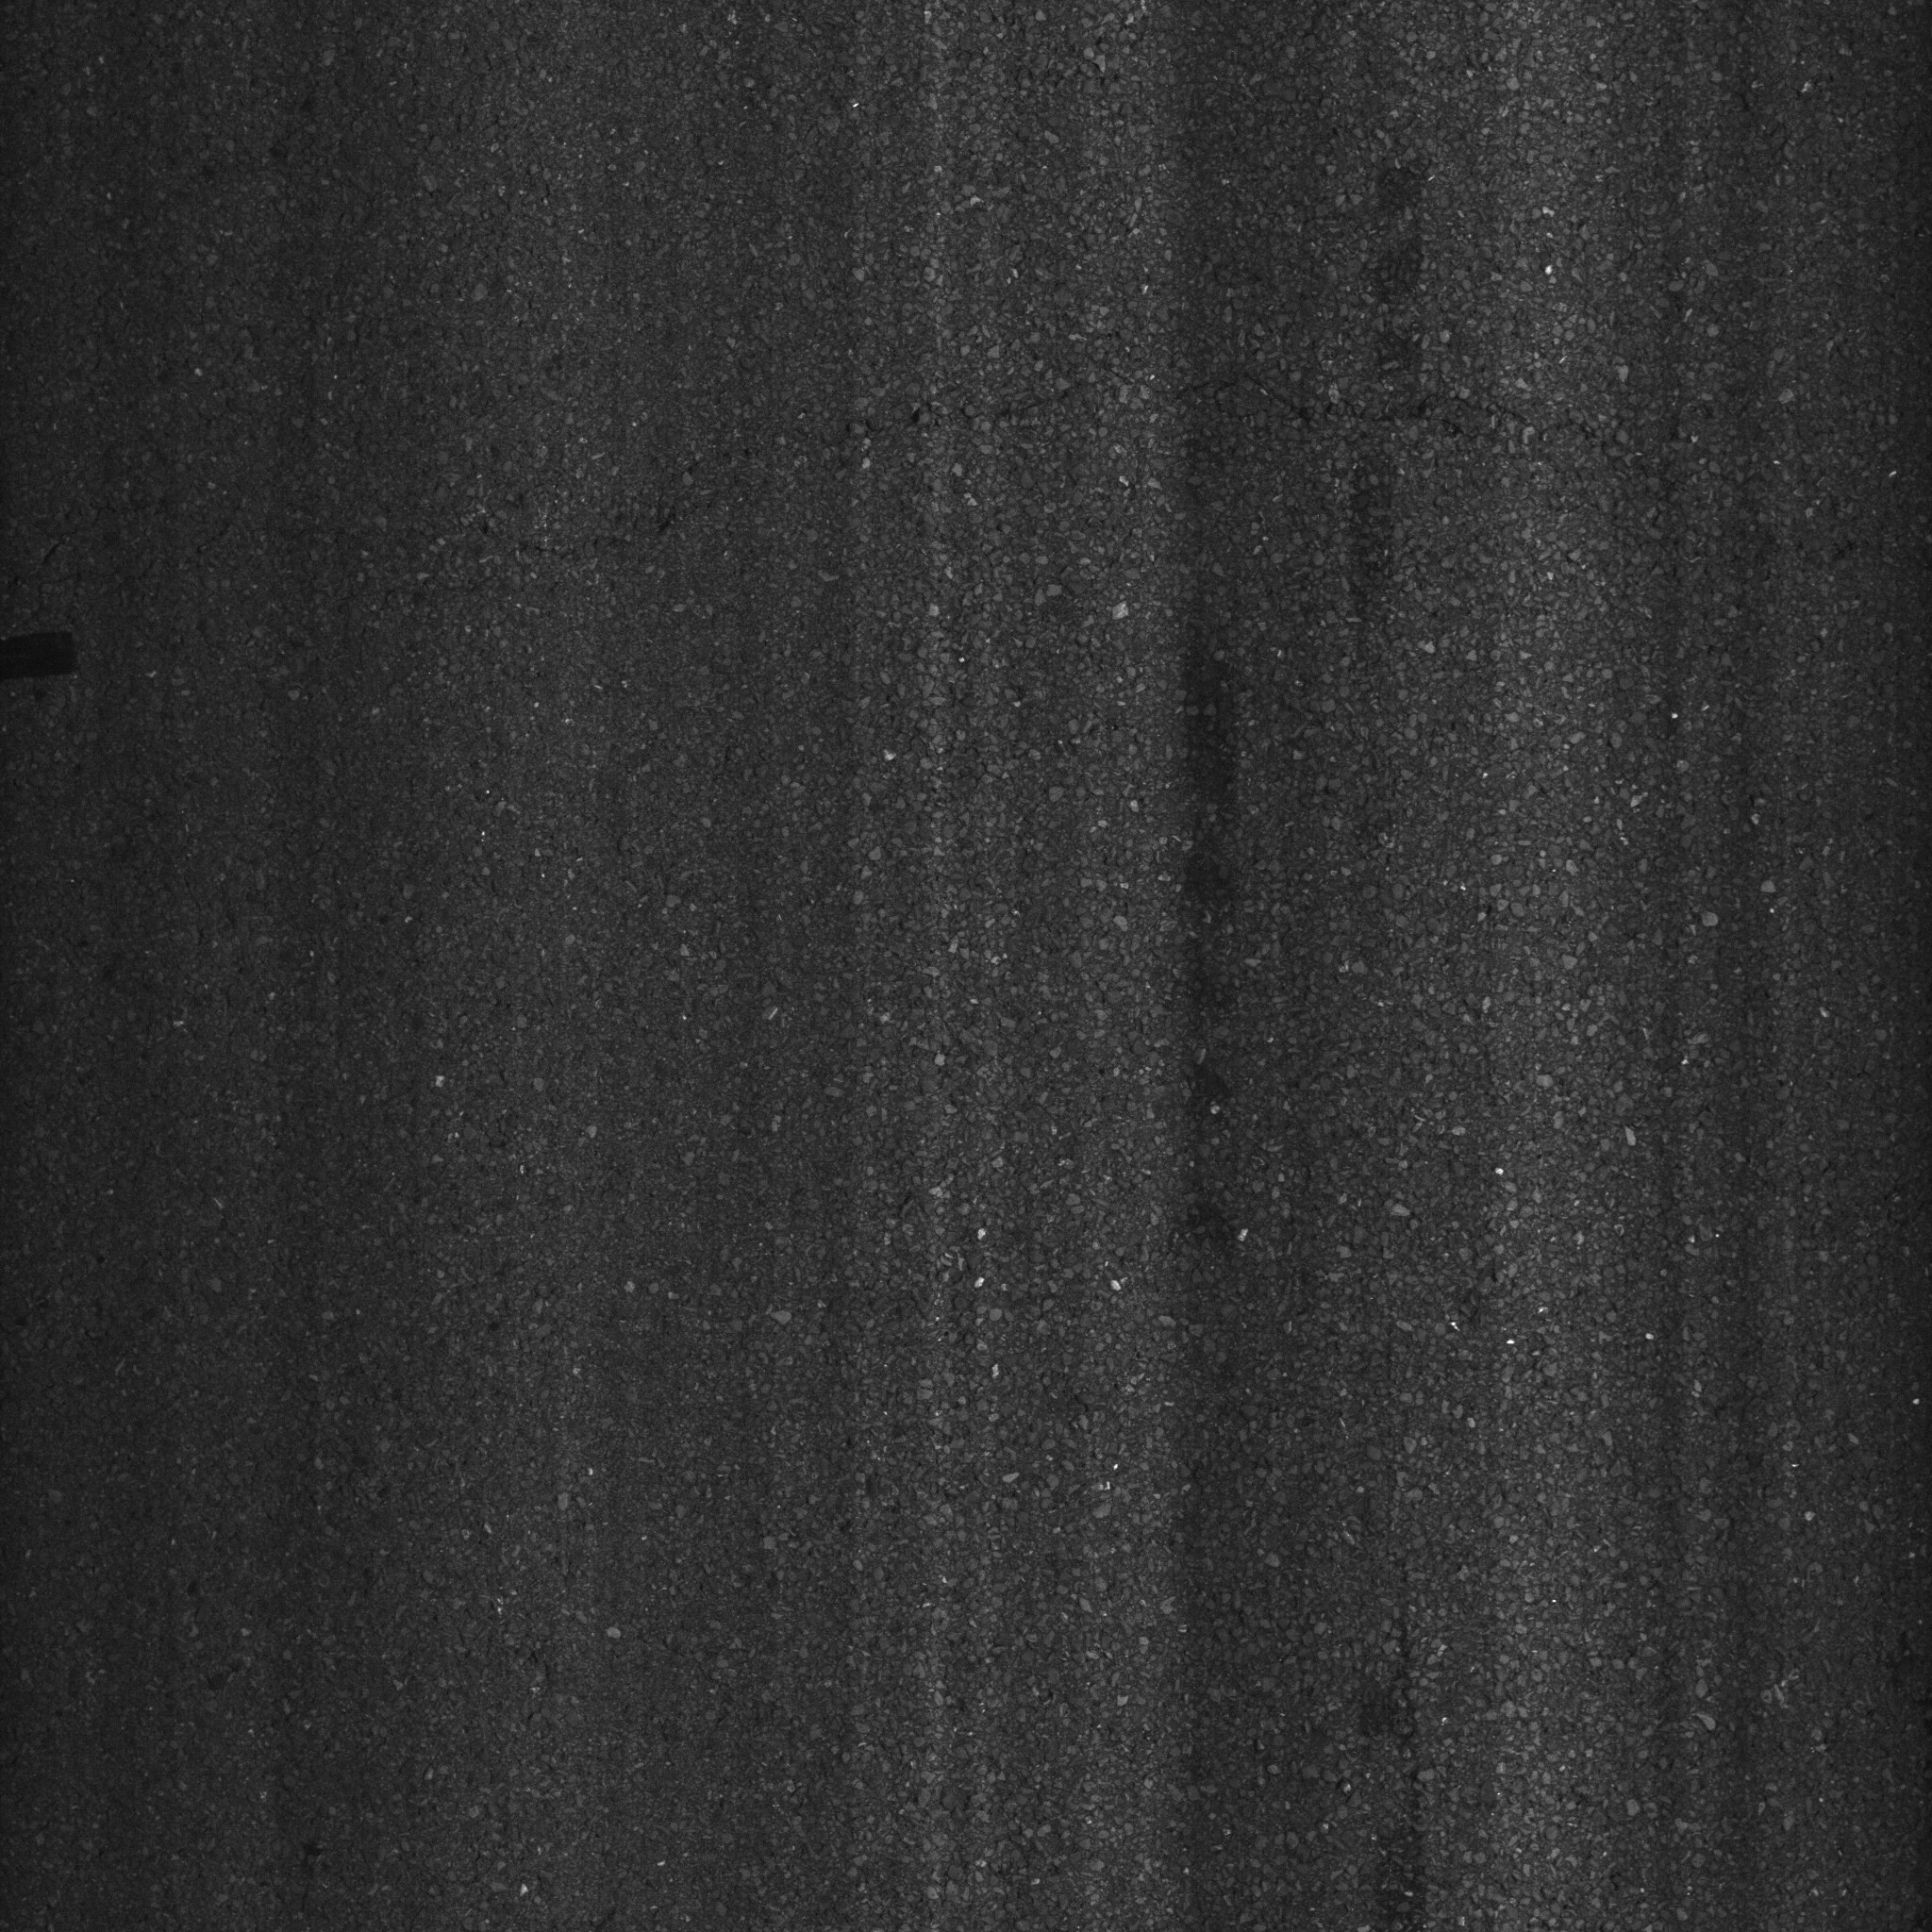transverse: (449, 363, 1739, 596)
